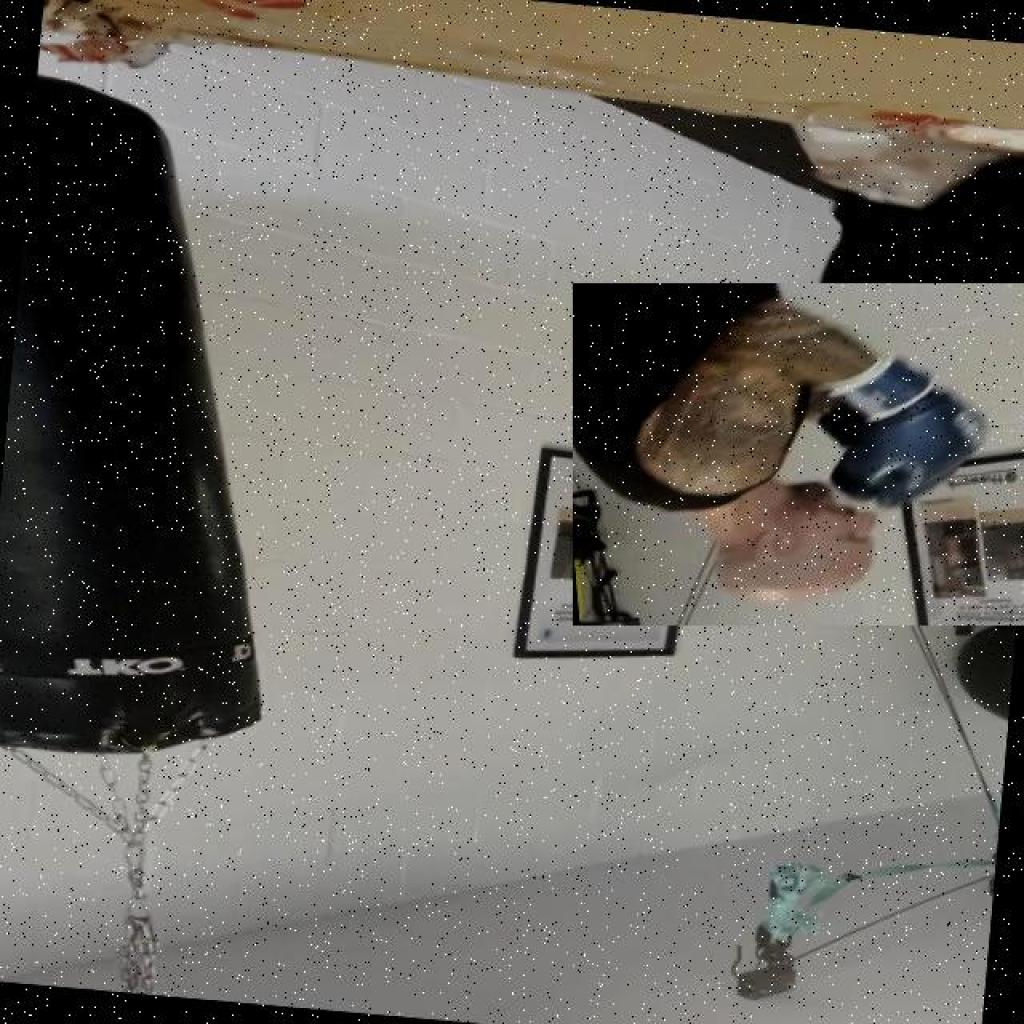bag: (0, 75, 314, 778)
no punch: (573, 283, 1024, 626)
